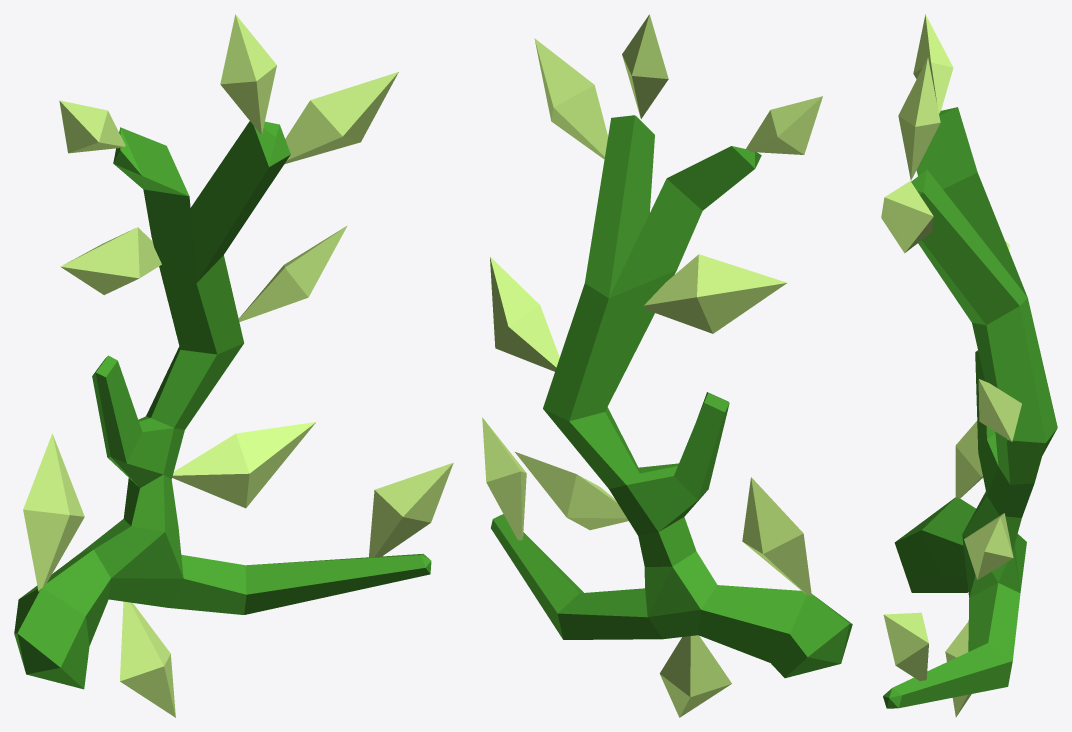
File: mdlSuperEarthAntler.fbx
The picture shows the model from 3 angles, left to right: view 1: azimuth 30°, elevation 25°; view 2: azimuth 150°, elevation 25°; view 3: azimuth 270°, elevation 25°; orthographic projection. The views are drawn at different scales.
Visible parts, largest first — view 1: mdlSuperEarthAntler; view 2: mdlSuperEarthAntler; view 3: mdlSuperEarthAntler.
Part boxes in pixels (box(x1,y1,x2,y2)): mdlSuperEarthAntler: box(14, 14, 453, 717); mdlSuperEarthAntler: box(482, 14, 852, 717); mdlSuperEarthAntler: box(881, 14, 1057, 717).
Bounding box in the file's own units: 0.843 × 1.39 × 0.3264.
